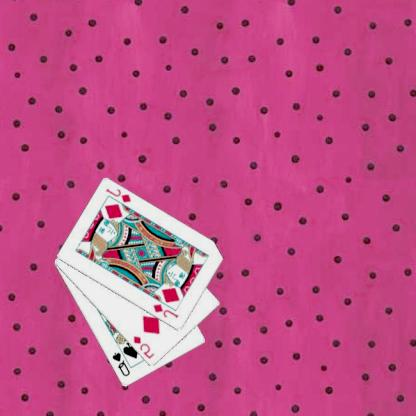5D: (132, 334, 158, 361)
JD: (152, 301, 182, 320), (105, 186, 134, 204)
QS: (111, 350, 133, 378)
